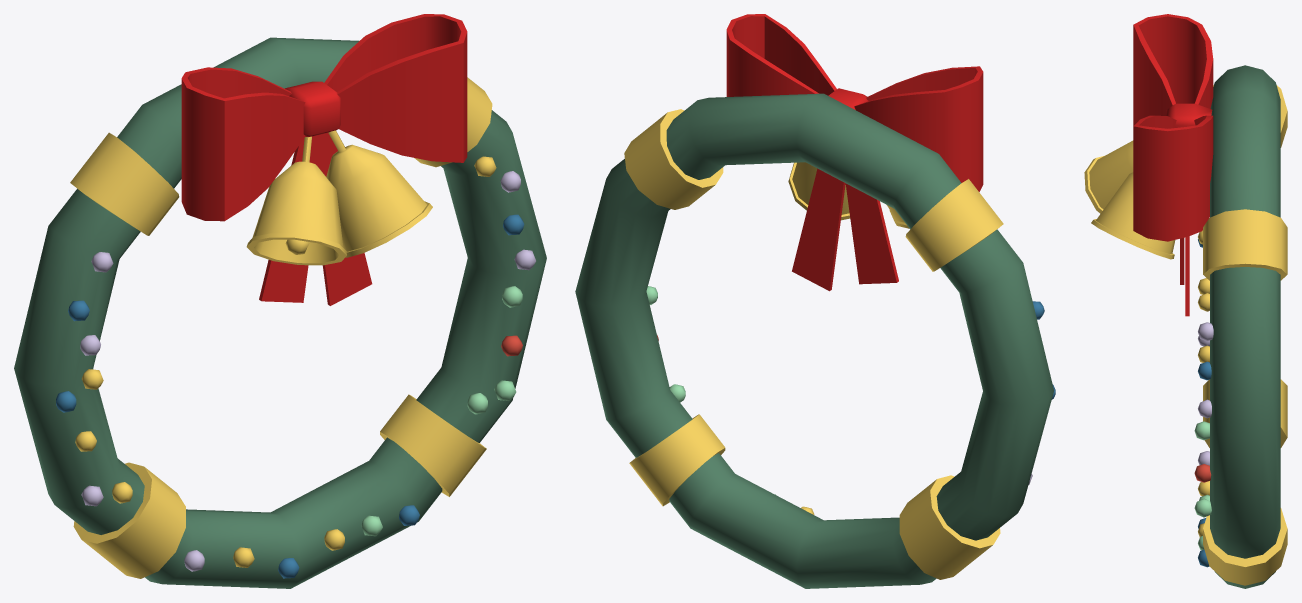
The model's file is Christmas_wreath_3.glb.
3 renders of one model, left to right at view 1: azimuth 30°, elevation 25°; view 2: azimuth 150°, elevation 25°; view 3: azimuth 270°, elevation 25°, orthographic. The views are drawn at different scales.
Visible parts, largest first — view 1: Christmas_wreath_3; view 2: Christmas_wreath_3; view 3: Christmas_wreath_3.
Boxes of the visible parts, x1,y1,x2,y2 form: Christmas_wreath_3: (14,14,546,588); Christmas_wreath_3: (575,14,1055,588); Christmas_wreath_3: (1084,14,1287,588).
Size of the model in its own units: 0.548 by 0.5665 by 0.2117.
Materials: 1 (1 with a texture image).
